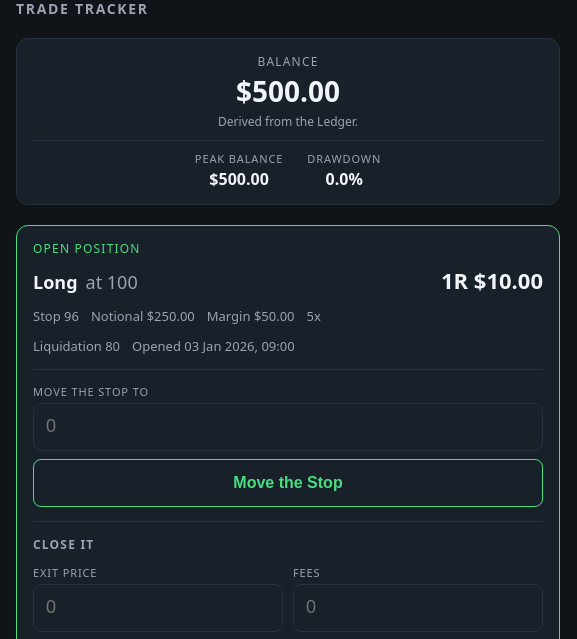
taking a Plan live and closing it › closes a winner, moving the Balance by the P&L net of fees
Type "110" into the number field labelled "Exit price" at (158,608), box [33,584,283,632]
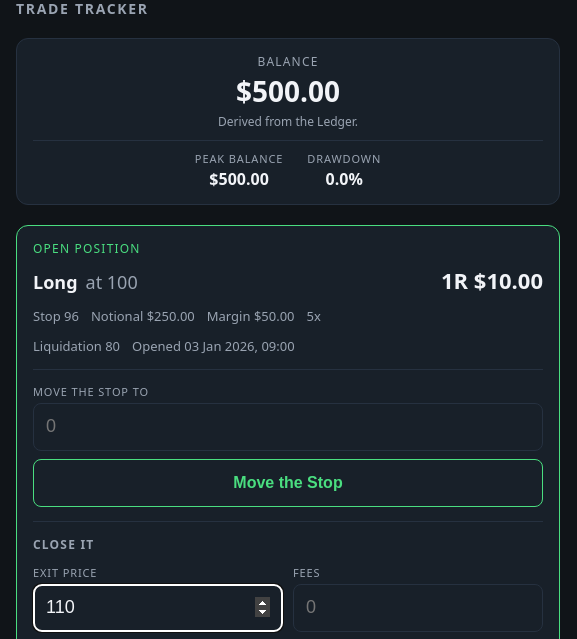
Type "1" into the number field labelled "Fees" at (418,608), box [293,584,543,632]
(page scrolled)
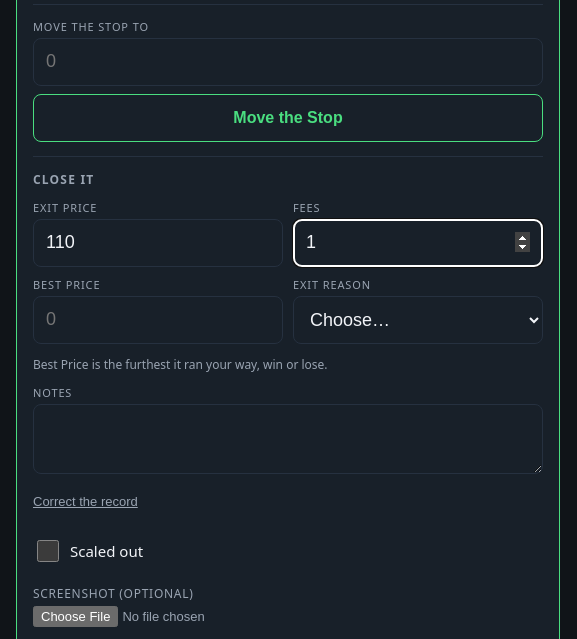
Type "114" into the number field labelled "Best Price" at (158,320), box [33,296,283,344]
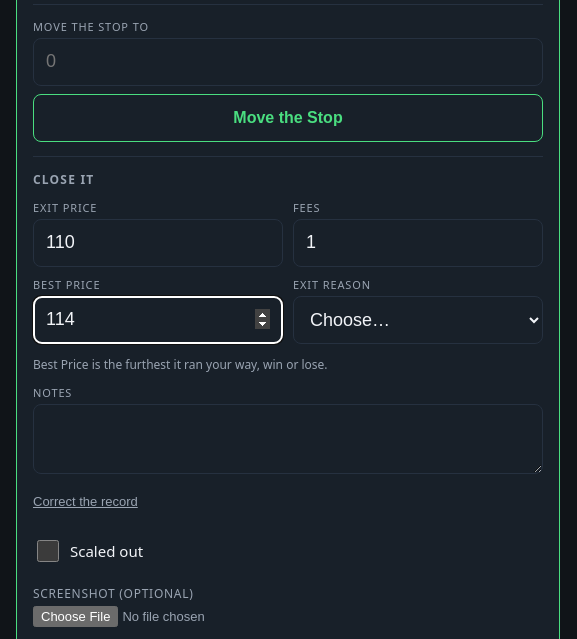
Select "Take-profit hit" in the dropdown labelled "Exit Reason" at (418,320), box [293,296,543,344]
(page scrolled)
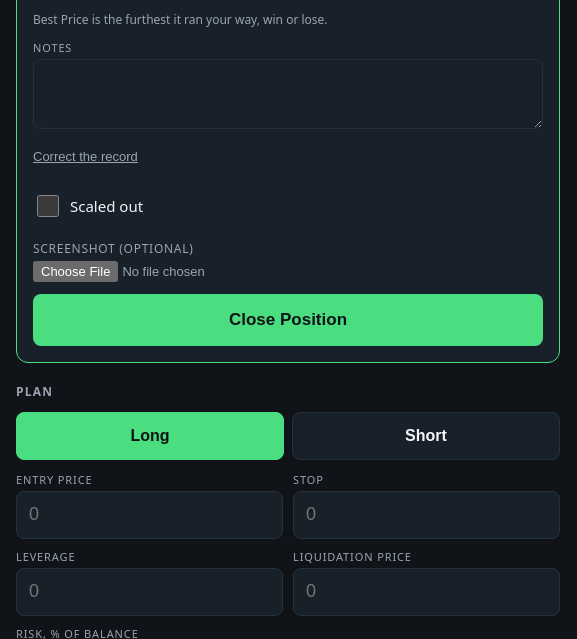
Click the button "Close Position" at (288,320), box [33,294,543,346]
(page scrolled)
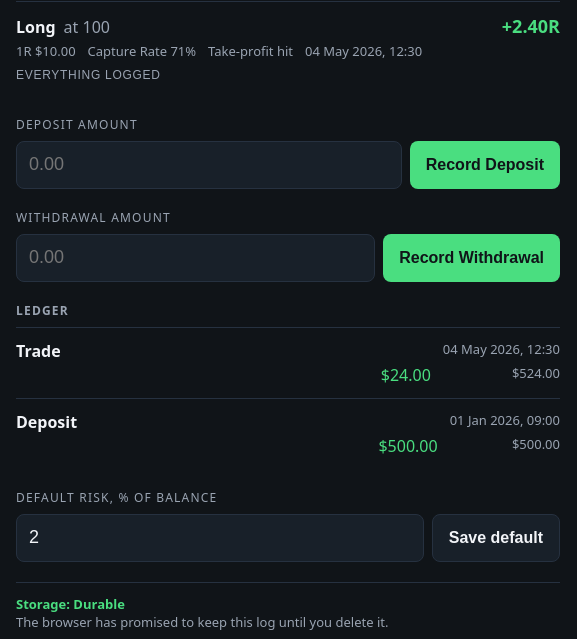
Expected: the text "$24.00" is shown, [381,364,431,386]
